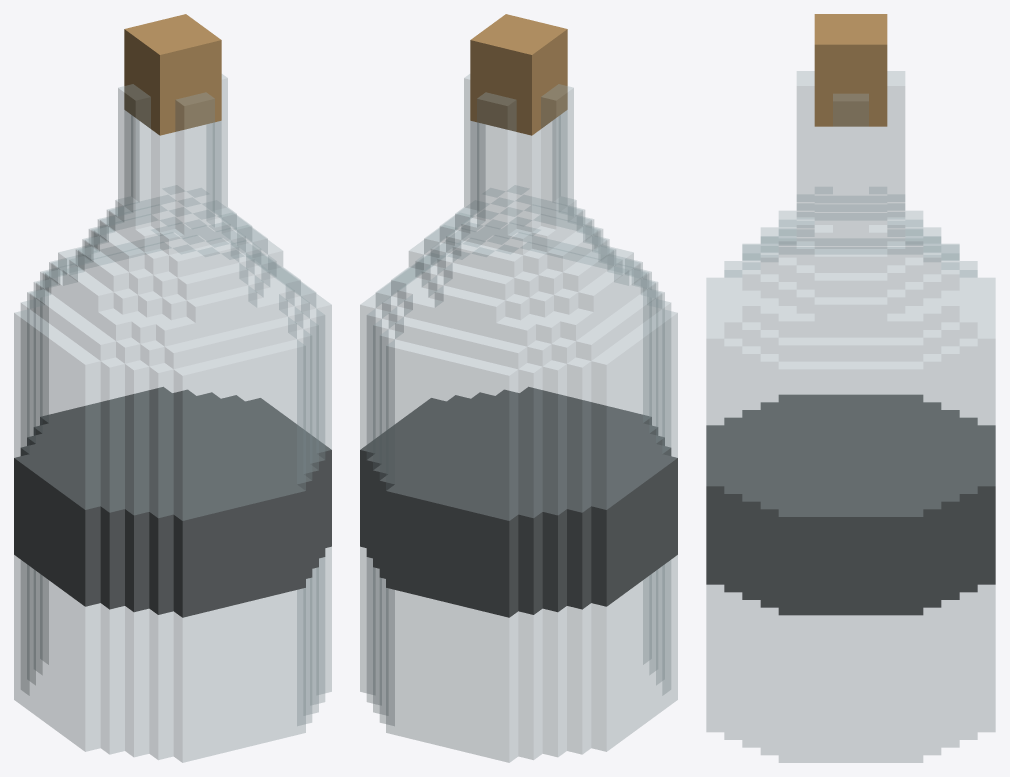
The model's file is makeshift_antiseptic.glb.
3 renders of one model, left to right at view 1: azimuth 30°, elevation 25°; view 2: azimuth 150°, elevation 25°; view 3: azimuth 270°, elevation 25°, orthographic.
Visible parts, largest first — view 1: makeshift_antiseptic:compound; view 2: makeshift_antiseptic:compound; view 3: makeshift_antiseptic:compound.
Part boxes in pixels (x1,y1,x2,y2): makeshift_antiseptic:compound: [14, 14, 331, 762]; makeshift_antiseptic:compound: [360, 14, 677, 762]; makeshift_antiseptic:compound: [706, 14, 995, 762].
Size of the model in its own units: 0.064 by 0.164 by 0.064.
